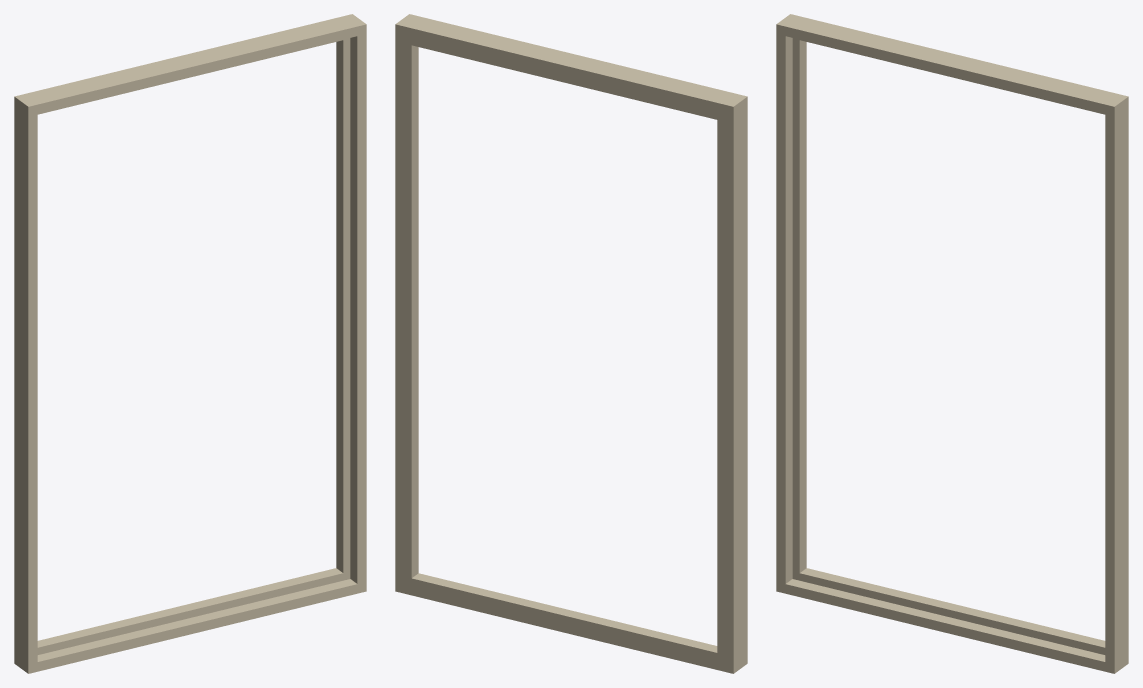
The model's file is waterfront-window-recess.lod1.glb.
The picture shows the model from 3 angles, left to right: view 1: azimuth 30°, elevation 25°; view 2: azimuth 150°, elevation 25°; view 3: azimuth 330°, elevation 25°; orthographic projection.
Visible parts, largest first — view 1: waterfront-window-recess; view 2: waterfront-window-recess; view 3: waterfront-window-recess.
Part boxes in pixels (left/top/right/bottom): waterfront-window-recess: left=14, top=14, right=366, bottom=673; waterfront-window-recess: left=395, top=14, right=747, bottom=673; waterfront-window-recess: left=776, top=14, right=1128, bottom=673.
Bounding box in the file's own units: 3.32 × 5.32 × 0.24.
